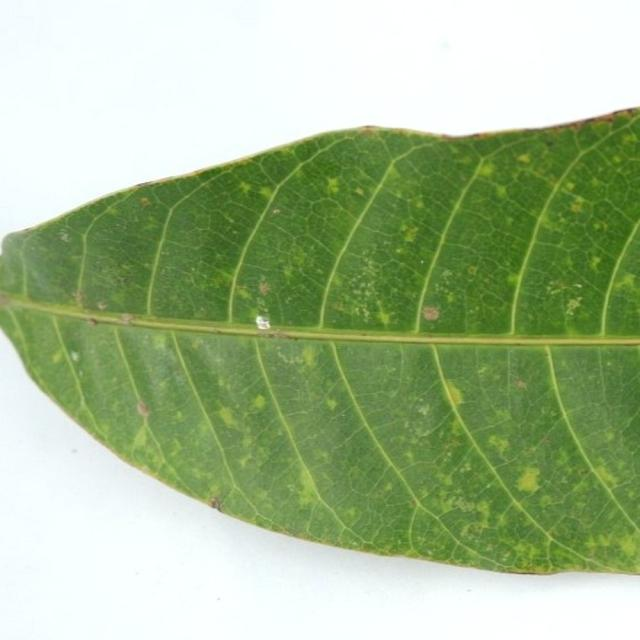Mango: (0, 109, 639, 572)
Powdery_Mildew: (250, 281, 282, 336), (347, 269, 385, 309), (428, 271, 462, 313), (295, 467, 320, 500), (512, 538, 543, 564), (274, 345, 309, 366), (590, 462, 618, 487), (616, 532, 639, 558), (516, 469, 540, 492), (442, 382, 465, 406), (131, 424, 151, 451), (486, 434, 510, 456), (450, 496, 480, 513), (217, 406, 239, 427), (299, 345, 319, 368), (449, 417, 468, 438), (373, 308, 393, 327), (474, 501, 492, 522), (206, 484, 224, 505), (251, 391, 268, 412), (616, 272, 637, 289), (212, 272, 232, 289), (402, 226, 420, 243), (565, 298, 582, 315), (477, 162, 495, 178), (422, 305, 439, 321), (136, 400, 150, 419), (238, 454, 254, 470), (326, 177, 340, 195), (258, 186, 273, 200), (51, 349, 65, 364), (494, 185, 508, 199), (589, 255, 602, 270), (282, 265, 295, 280), (118, 313, 134, 325), (569, 200, 583, 213), (237, 182, 252, 194), (506, 273, 520, 285), (259, 281, 271, 295), (326, 398, 338, 411), (417, 404, 430, 416), (517, 153, 531, 163), (549, 286, 564, 295), (73, 289, 84, 301), (382, 481, 393, 492), (59, 232, 71, 242), (174, 410, 184, 421), (467, 266, 478, 276), (516, 379, 527, 389), (410, 498, 420, 509), (354, 187, 365, 196), (140, 197, 151, 206), (442, 269, 452, 278), (97, 301, 107, 310), (71, 351, 79, 360), (272, 208, 280, 215)
